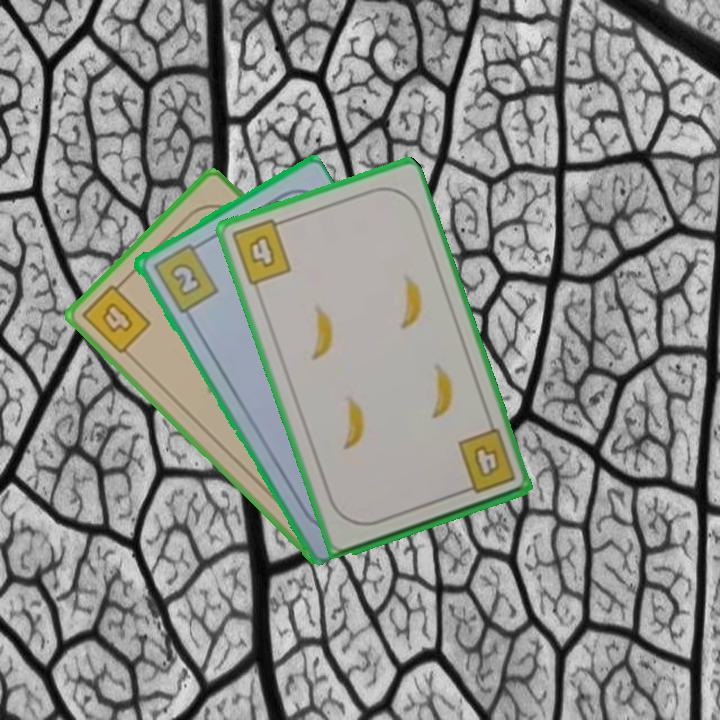2b: (148, 238, 221, 316)
4b: (78, 275, 154, 357), (227, 215, 295, 288), (453, 425, 519, 497)
